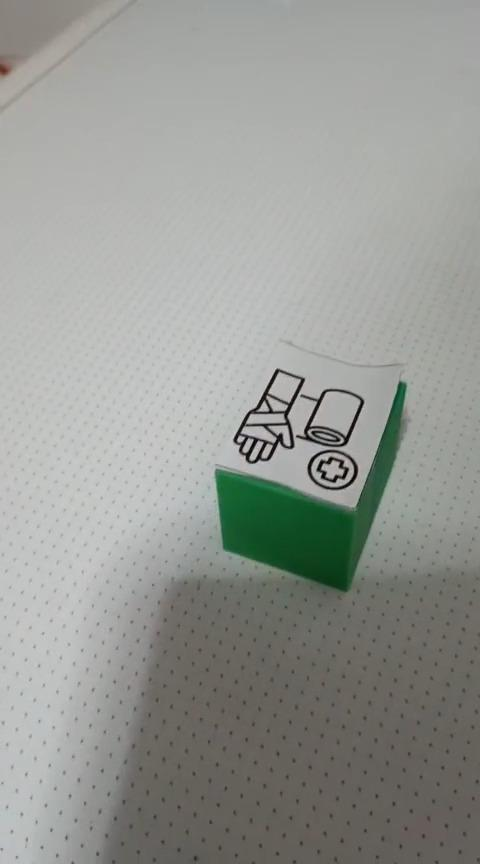Bandages: (212, 338, 407, 592)
